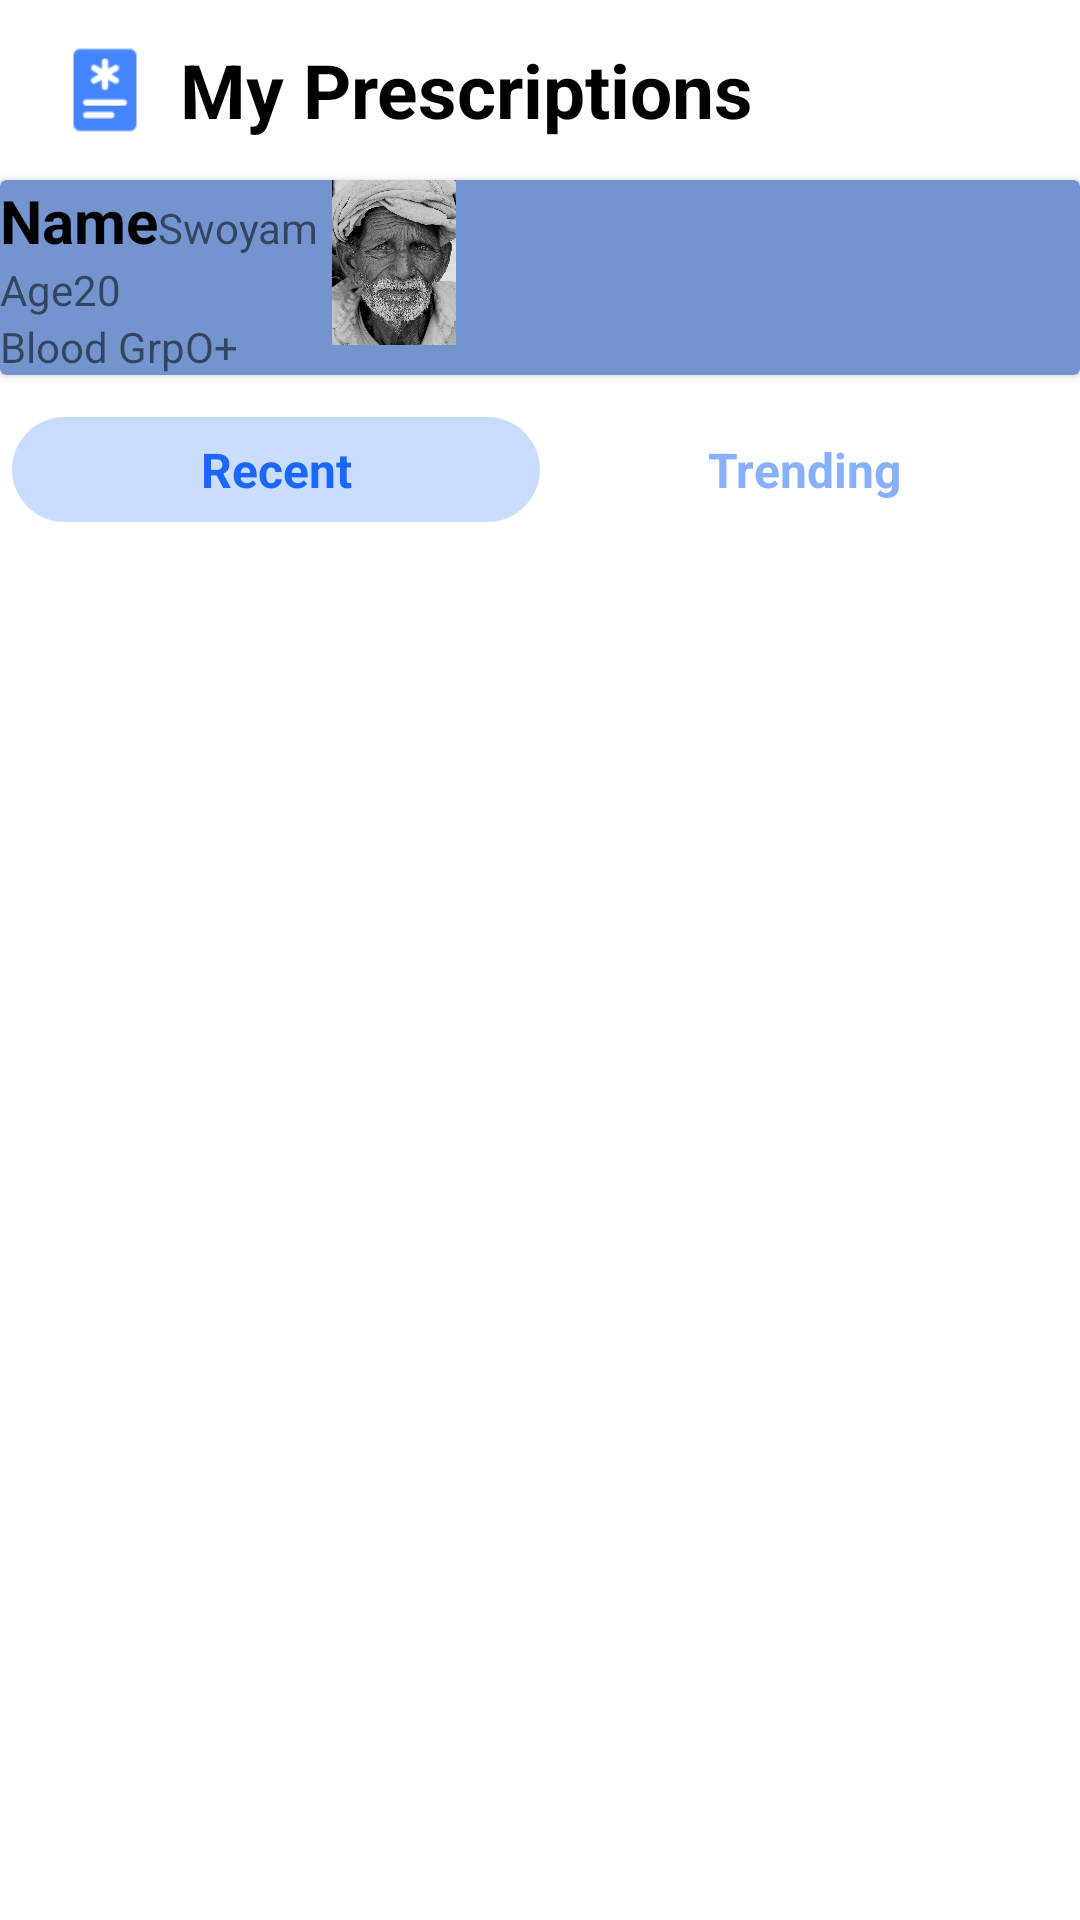

Icon bounding boxes for this 1080*1920 phone screenshot, format (x1, y1, x2, y2):
medical history: (73, 48, 137, 132)
user: (332, 180, 456, 345)
